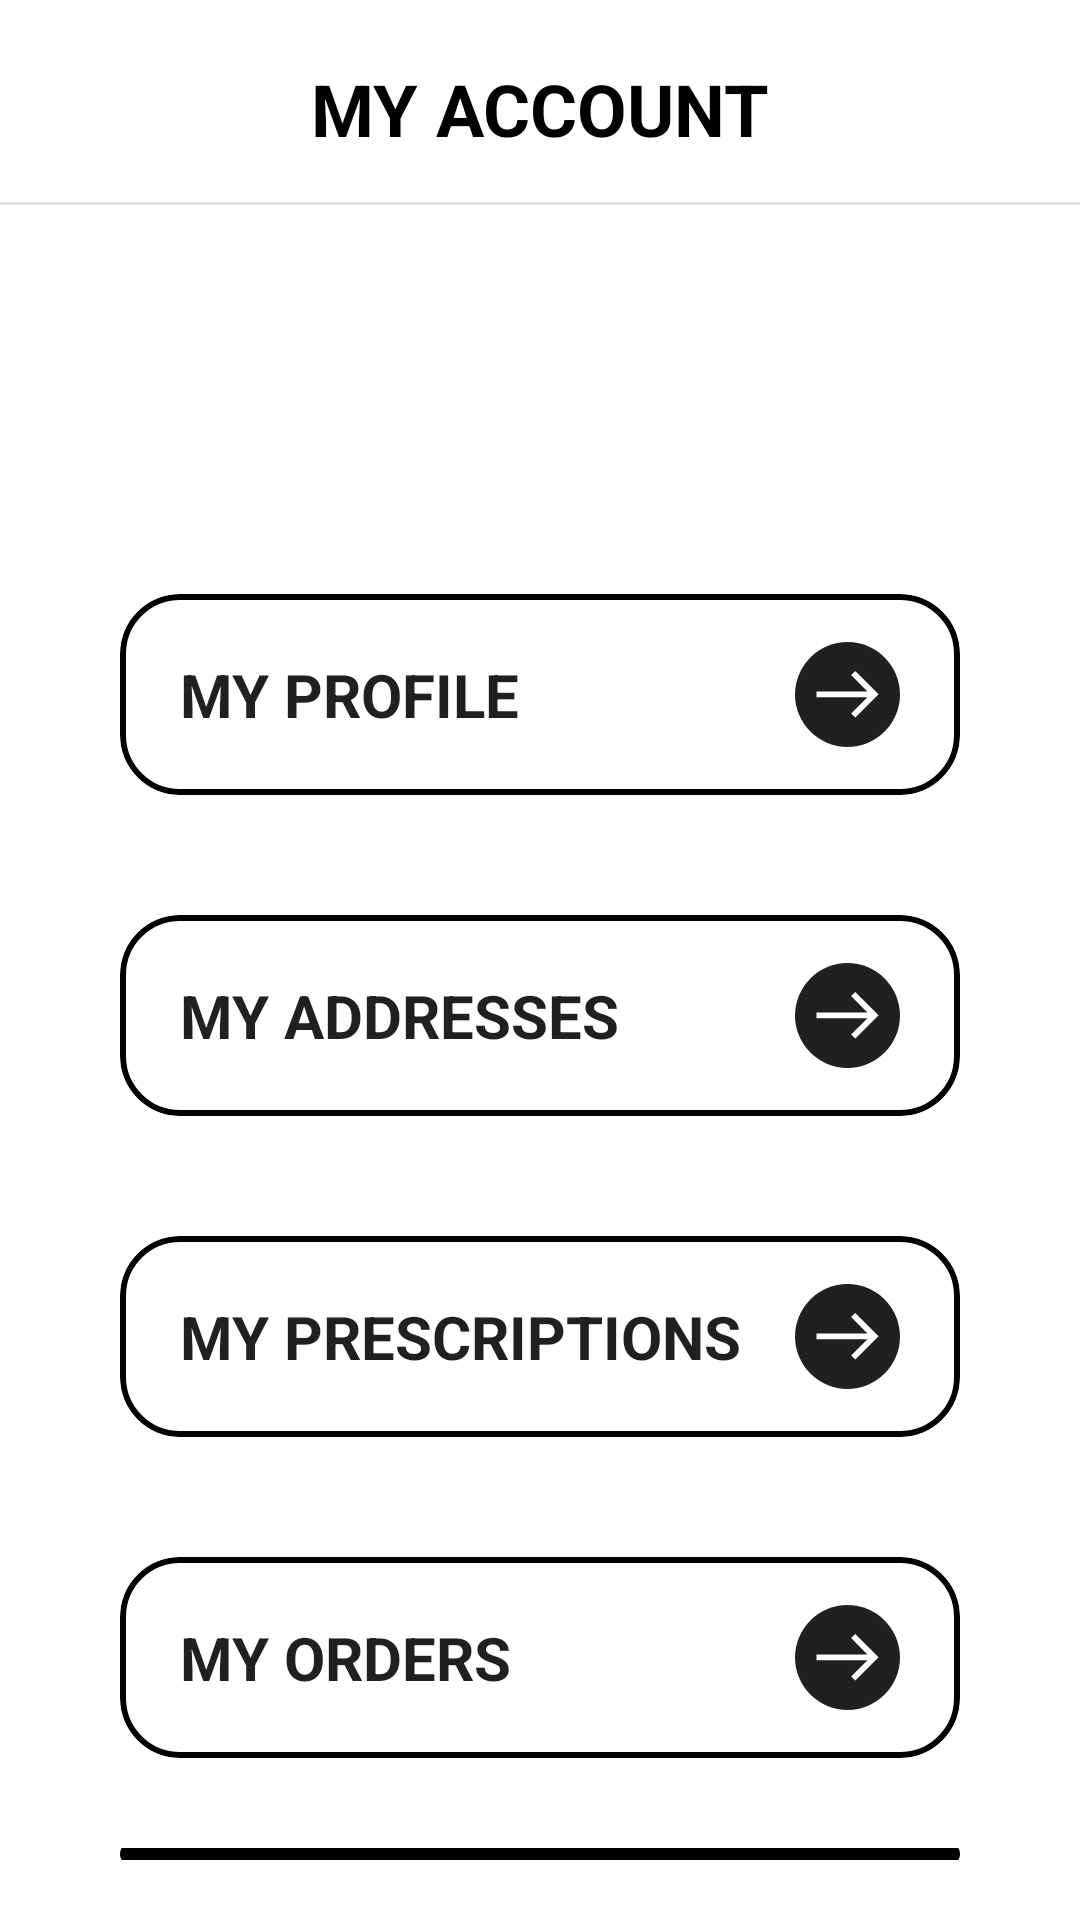

Point at icon controls on the screen. Image size 1080px x 1920px, points as [x,y].
arrow right: [847,694], [847,1015], [847,1336], [847,1657]
